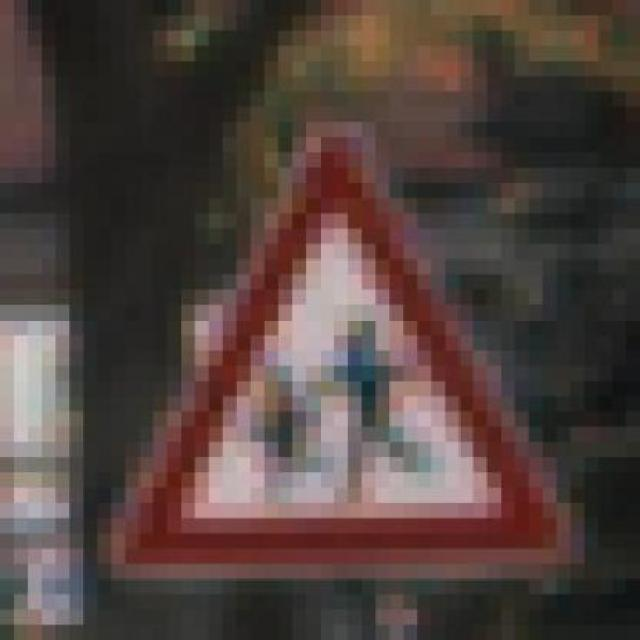Beware of children: (97, 122, 571, 580)
